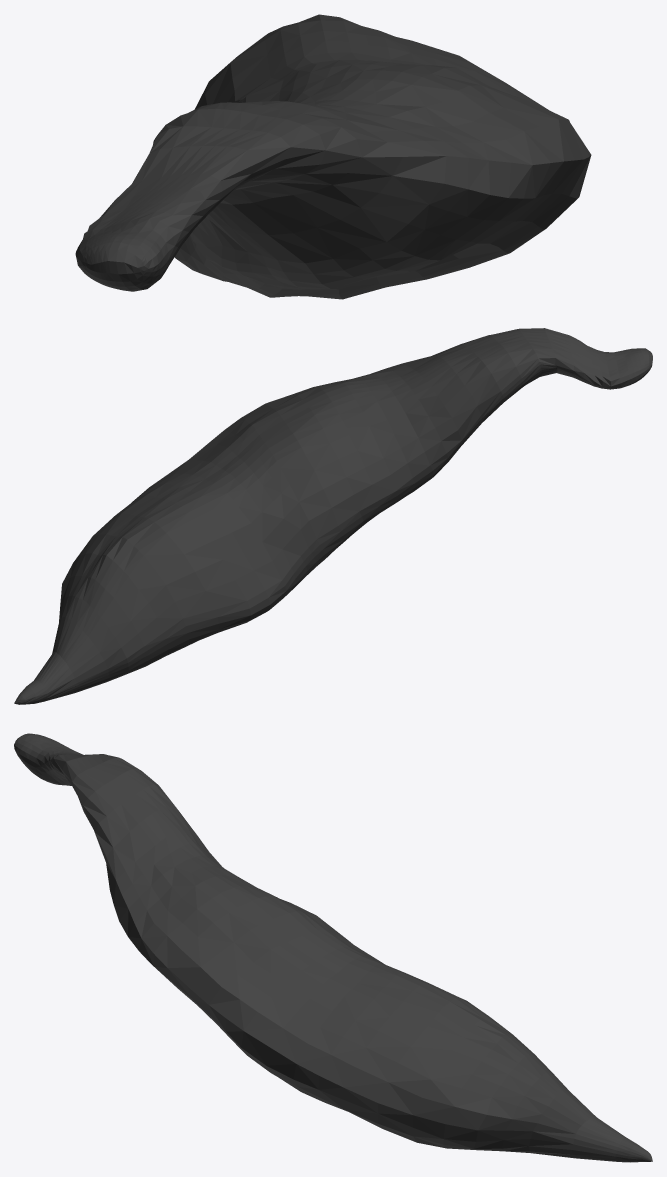
The model's file is Supinator_1.glb.
The picture shows the model from 3 angles, top to bottom: view 1: azimuth 30°, elevation 25°; view 2: azimuth 150°, elevation 25°; view 3: azimuth 270°, elevation 25°; orthographic projection. The views are drawn at different scales.
Parts seen in each view (by area): view 1: Supinator_1; view 2: Supinator_1; view 3: Supinator_1.
Part boxes in pixels (x1=…): Supinator_1: x1=75, y1=14, x2=591, y2=299; Supinator_1: x1=14, y1=328, x2=652, y2=704; Supinator_1: x1=14, y1=733, x2=652, y2=1162.
Bounding box in the file's own units: 0.00858 × 0.00524 × 0.0113.
Materials: 1 (1 with a texture image).
